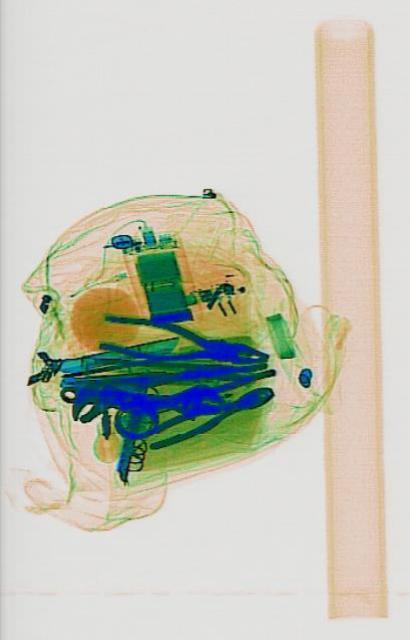Pliers: (97, 312, 267, 374), (143, 373, 275, 452)
